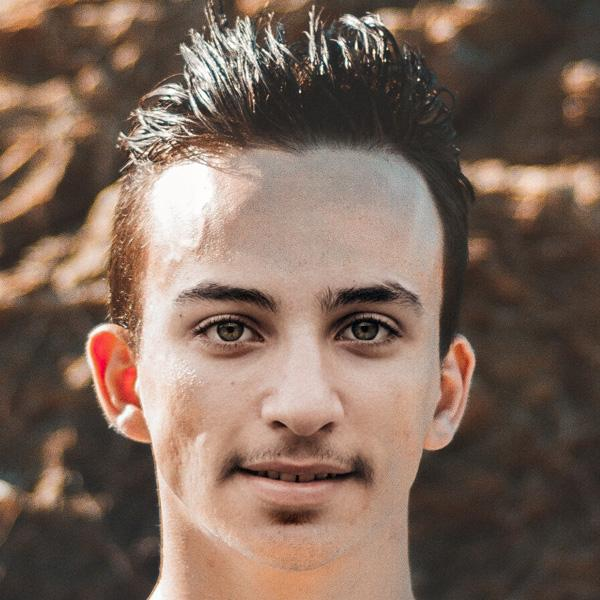Eyes: (181, 302, 275, 363), (325, 302, 413, 364)
